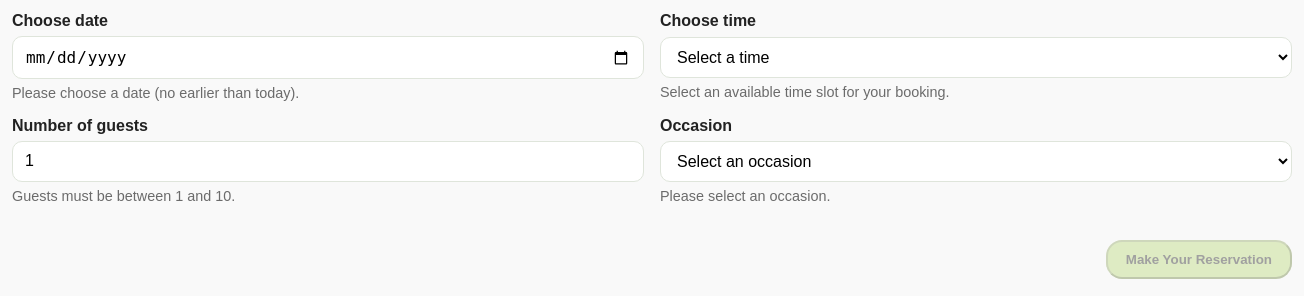
Test: BookingForm validation › disables submit button when form is invalid
Expected: the button "Make Your Reservation" is disabled, top-left (1106, 240), bottom-right (1292, 279)
填完整表单后启用按钮
Type "2025-11-10" into the date field labelled "Choose date" at (328, 58), box top-left (12, 36), bottom-right (644, 79)
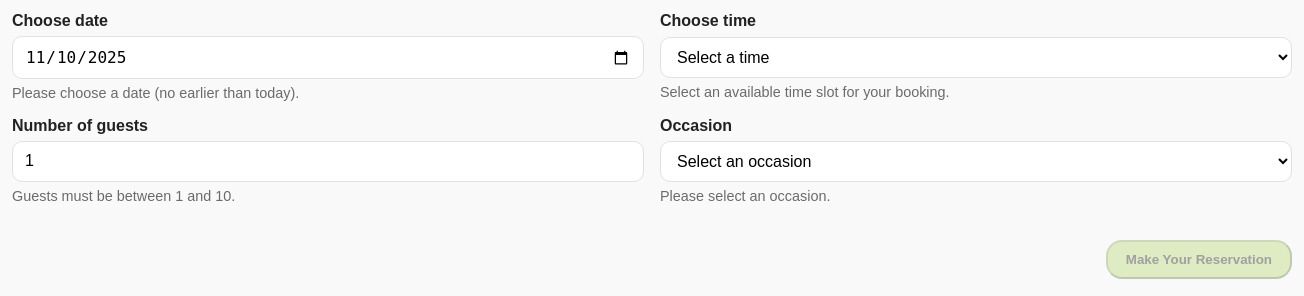
Select "18:00" in the dropdown labelled "Choose time" at (976, 58), box top-left (660, 37), bottom-right (1292, 78)
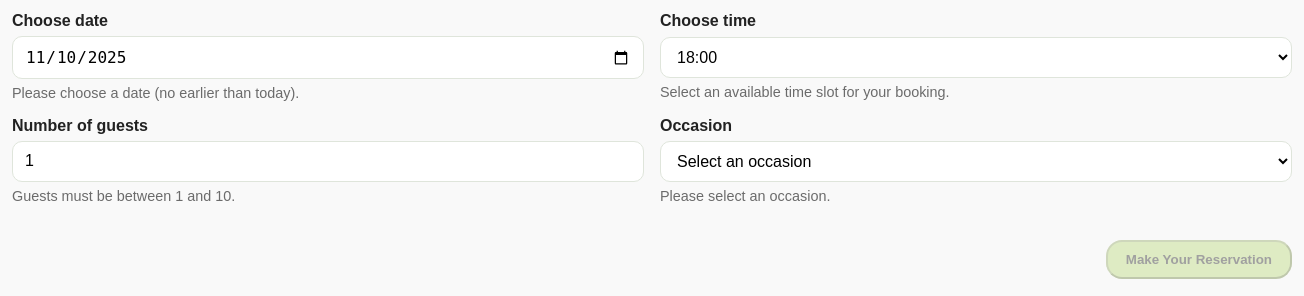
Replace the text in the number field labelled "Number of guests" with "3" at (328, 161), box top-left (12, 141), bottom-right (644, 182)
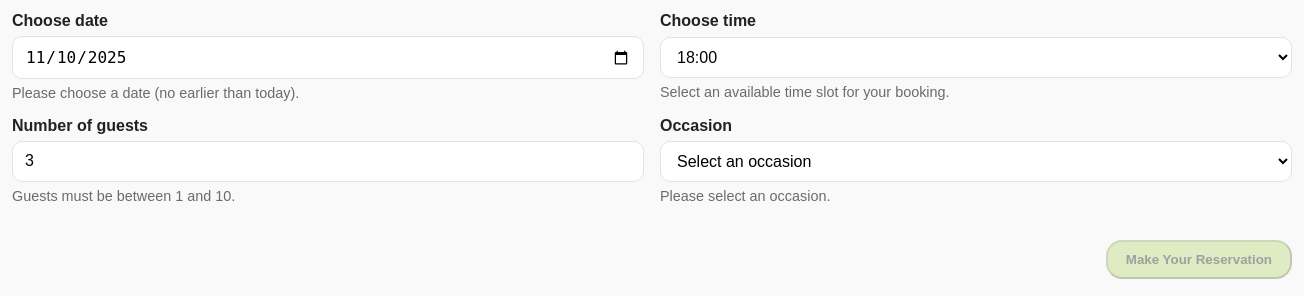
Select "Birthday" in the dropdown labelled "Occasion" at (976, 162), box top-left (660, 141), bottom-right (1292, 182)
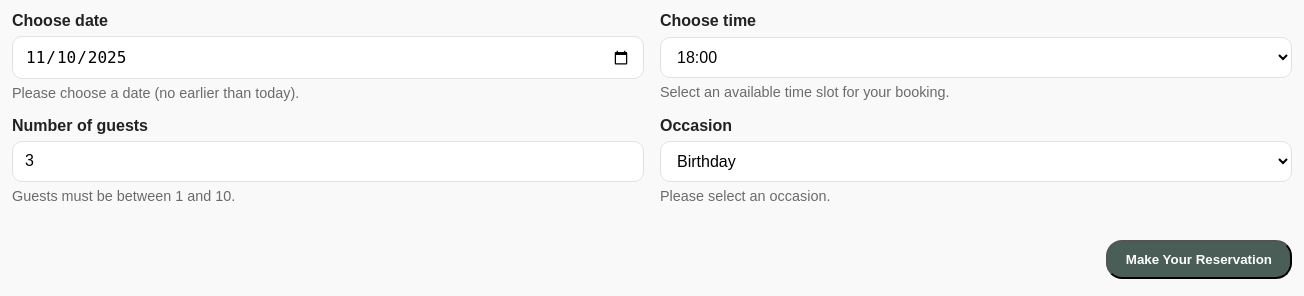
Expected: the button "Make Your Reservation" is enabled, top-left (1106, 240), bottom-right (1292, 279)
